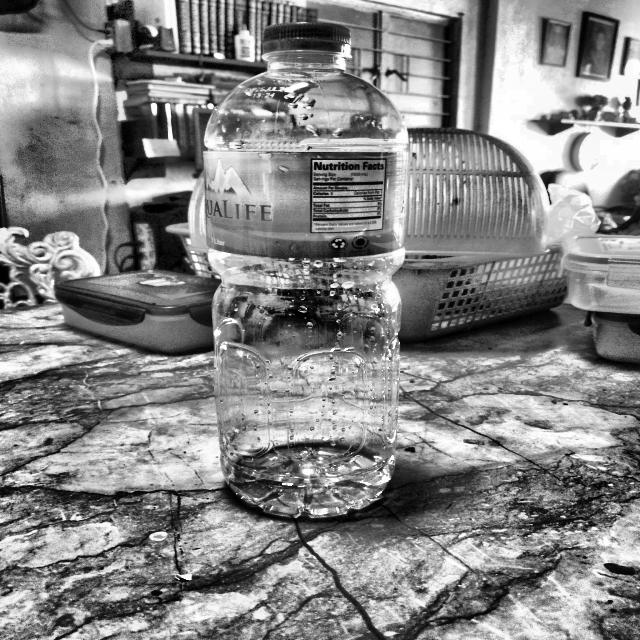Plastic-Bottle: (198, 18, 413, 522)
